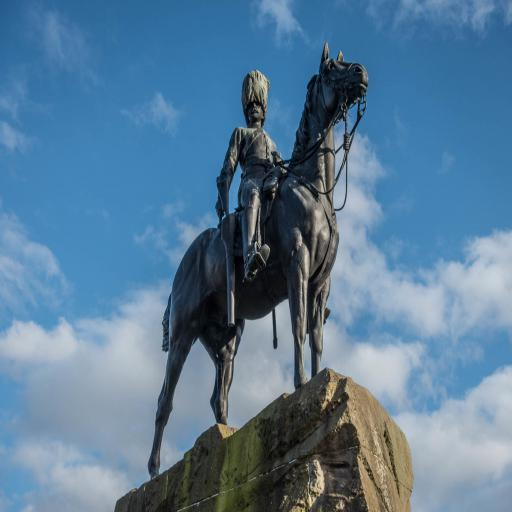horse: (146, 40, 371, 482)
